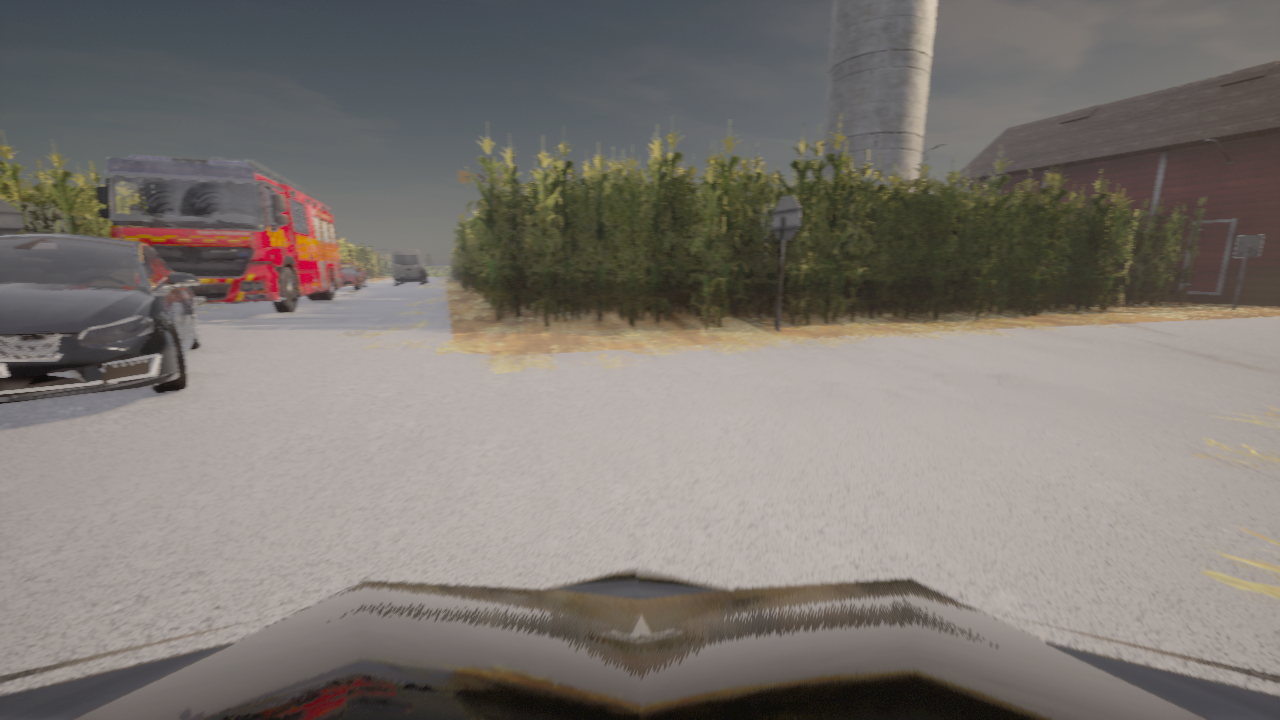cyclist: (0, 569, 1279, 719), (96, 155, 341, 313), (0, 233, 200, 404), (392, 248, 427, 284), (339, 262, 367, 289)
